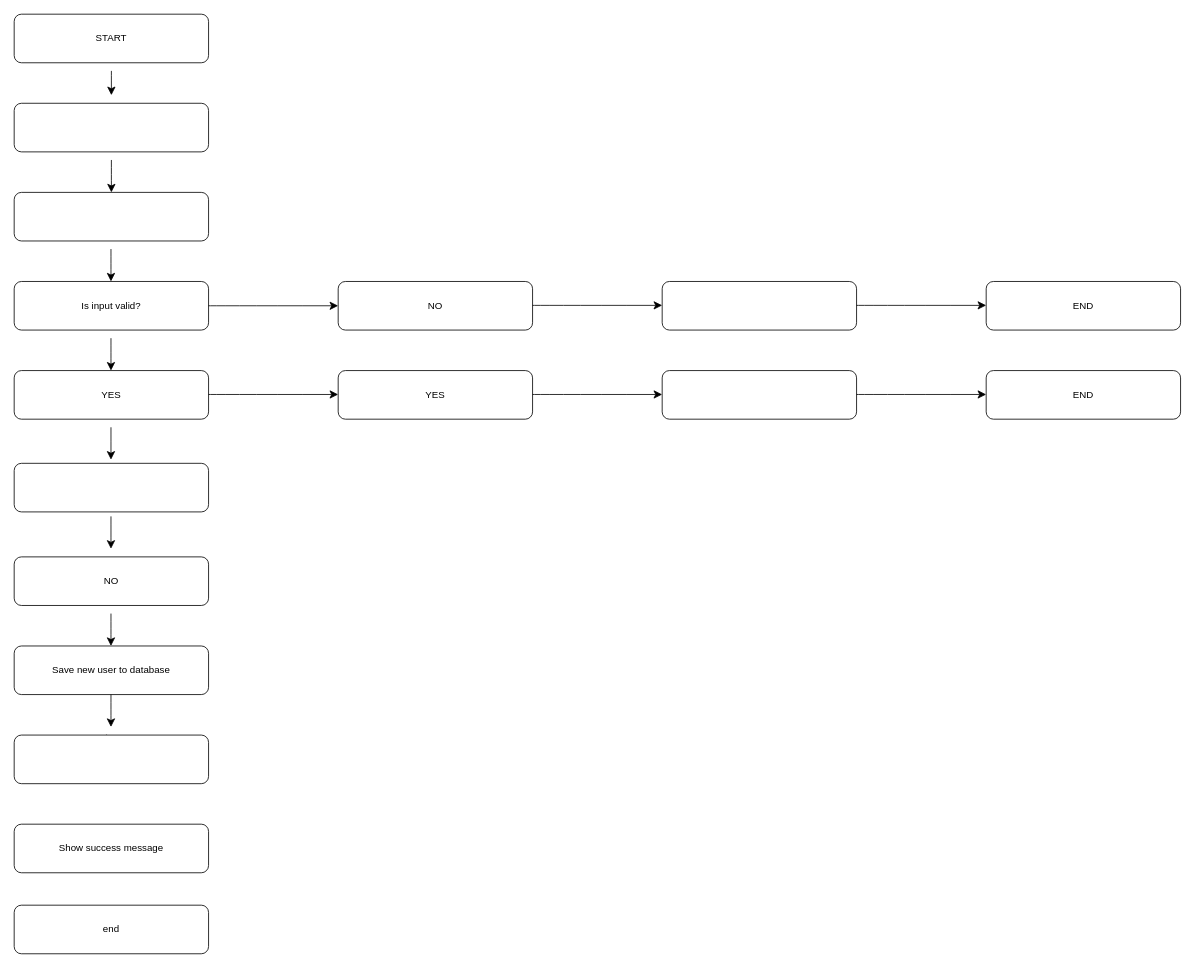
The diagram is 1195 pixels wide and 968 high, and some of its shapes have lost their labels. The shapes that lost their labels are listed below. From the top down, each one's box as (x1, y1, x2, y2) in pixels, then its label:
(13, 102, 209, 152): User submits registration form
(13, 192, 209, 241): Validate input (email, password, etc.)
(661, 281, 857, 330): Show error message
(661, 370, 857, 419): show user already exists
(13, 463, 209, 512): Check if user already exists
(13, 734, 209, 784): Send confirmation email
